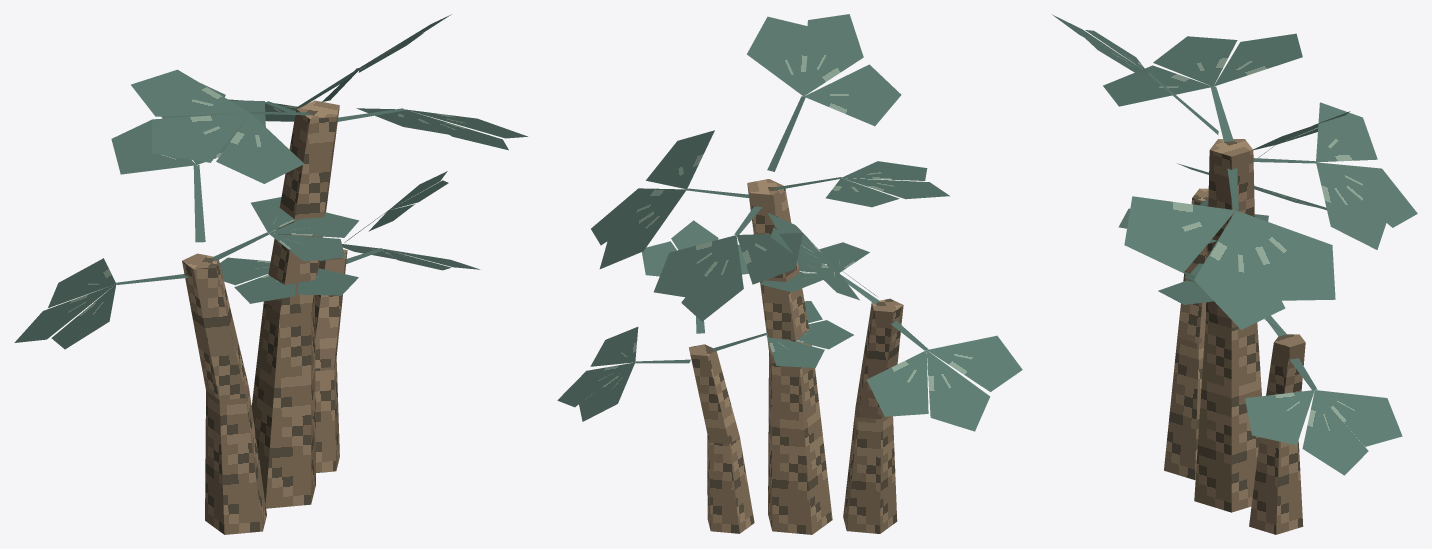
The model's file is mediterranean-fan-mid.glb.
3 renders of one model, left to right at view 1: azimuth 30°, elevation 25°; view 2: azimuth 150°, elevation 25°; view 3: azimuth 270°, elevation 25°, orthographic. The views are drawn at different scales.
Parts seen in each view (by area): view 1: trunk_mediterranean-fan-mid, crown_mediterranean-fan-mid; view 2: crown_mediterranean-fan-mid, trunk_mediterranean-fan-mid; view 3: crown_mediterranean-fan-mid, trunk_mediterranean-fan-mid.
Boxes of the visible parts, x1,y1,x2,y2 form: trunk_mediterranean-fan-mid: (182,100,347,534); crown_mediterranean-fan-mid: (14,14,527,349); crown_mediterranean-fan-mid: (557,14,1022,431); trunk_mediterranean-fan-mid: (689,179,903,534); crown_mediterranean-fan-mid: (1052,14,1417,475); trunk_mediterranean-fan-mid: (1164,139,1305,534).
Bounding box in the file's own units: 3.94 × 4.06 × 2.72.
2 materials, 2 textured.
